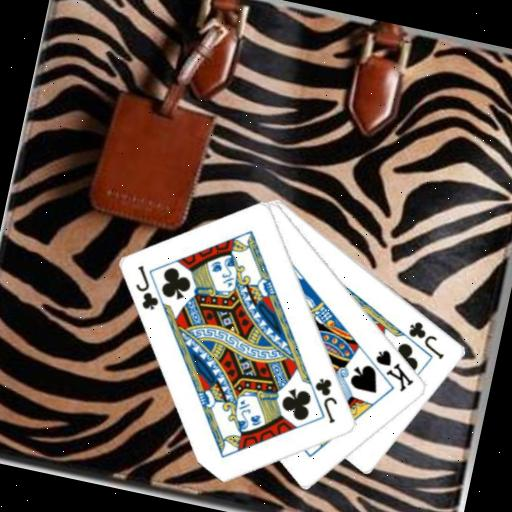JC: (401, 316, 453, 362), (126, 261, 168, 314), (305, 373, 346, 426)
KS: (366, 344, 421, 395)
